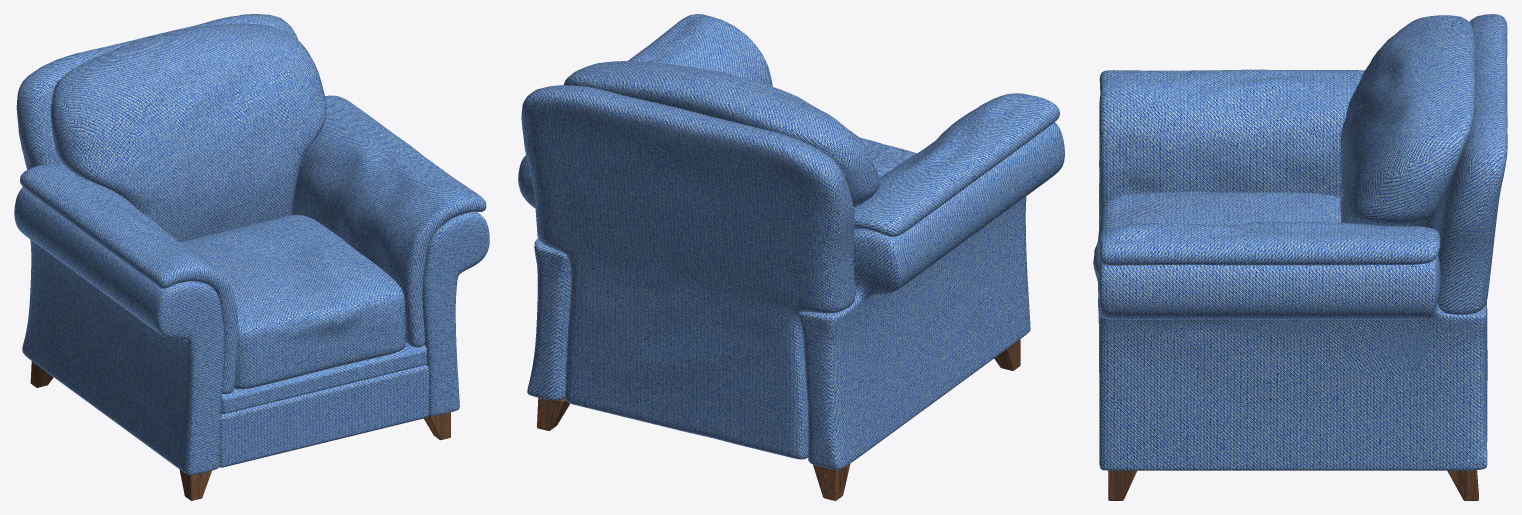
Rendered from armchair2.fbx.
3 renders of one model, left to right at view 1: azimuth 30°, elevation 25°; view 2: azimuth 150°, elevation 25°; view 3: azimuth 270°, elevation 25°, orthographic. The views are drawn at different scales.
Visible parts, largest first — view 1: back pillow_001, side_002, seat_001, side-pillow_002, bottom support_001, side-pillow_001, side_001, back support_001, medium support_001, side_001.001, leg-01_002, leg-01_001; view 2: back support_001, side_002, back pillow_001, side-pillow_001, side_001, side-pillow_002, side_001.001, seat_001, leg-01#1_002, leg-01#1_001; view 3: side_001, side-pillow_001, back pillow_001, side-pillow_002, back support_001, seat_001, leg-01#1_001, leg-01_001.
Part boxes in pixels (left/top/right/bottom): back pillow_001: left=51, top=23, right=326, bottom=241; side_002: left=14, top=187, right=210, bottom=474; seat_001: left=180, top=214, right=405, bottom=389; side-pillow_002: left=291, top=95, right=486, bottom=347; bottom support_001: left=219, top=364, right=428, bottom=467; side-pillow_001: left=20, top=163, right=238, bottom=394; side_001: left=422, top=212, right=489, bottom=415; back support_001: left=16, top=14, right=297, bottom=169; medium support_001: left=221, top=342, right=427, bottom=414; side_001.001: left=171, top=281, right=224, bottom=471; leg-01_002: left=179, top=469, right=211, bottom=500; leg-01_001: left=424, top=412, right=450, bottom=440; back support_001: left=521, top=85, right=855, bottom=459; side_002: left=805, top=122, right=1064, bottom=469; back pillow_001: left=563, top=61, right=879, bottom=206; side-pillow_001: left=854, top=93, right=1059, bottom=236; side_001: left=518, top=155, right=570, bottom=400; side-pillow_002: left=628, top=14, right=772, bottom=86; side_001.001: left=798, top=229, right=874, bottom=467; seat_001: left=860, top=137, right=916, bottom=177; leg-01#1_002: left=813, top=464, right=850, bottom=500; leg-01#1_001: left=537, top=398, right=569, bottom=430; side_001: left=1099, top=255, right=1487, bottom=470; side-pillow_001: left=1099, top=69, right=1364, bottom=225; back pillow_001: left=1340, top=15, right=1475, bottom=228; side-pillow_002: left=1099, top=221, right=1440, bottom=265; back support_001: left=1433, top=14, right=1507, bottom=441; seat_001: left=1093, top=191, right=1340, bottom=322; leg-01#1_001: left=1447, top=470, right=1478, bottom=500; leg-01_001: left=1108, top=470, right=1136, bottom=500.
Size of the model in its own units: 92.59 by 86.35 by 86.61.
3 materials, 3 textured.
